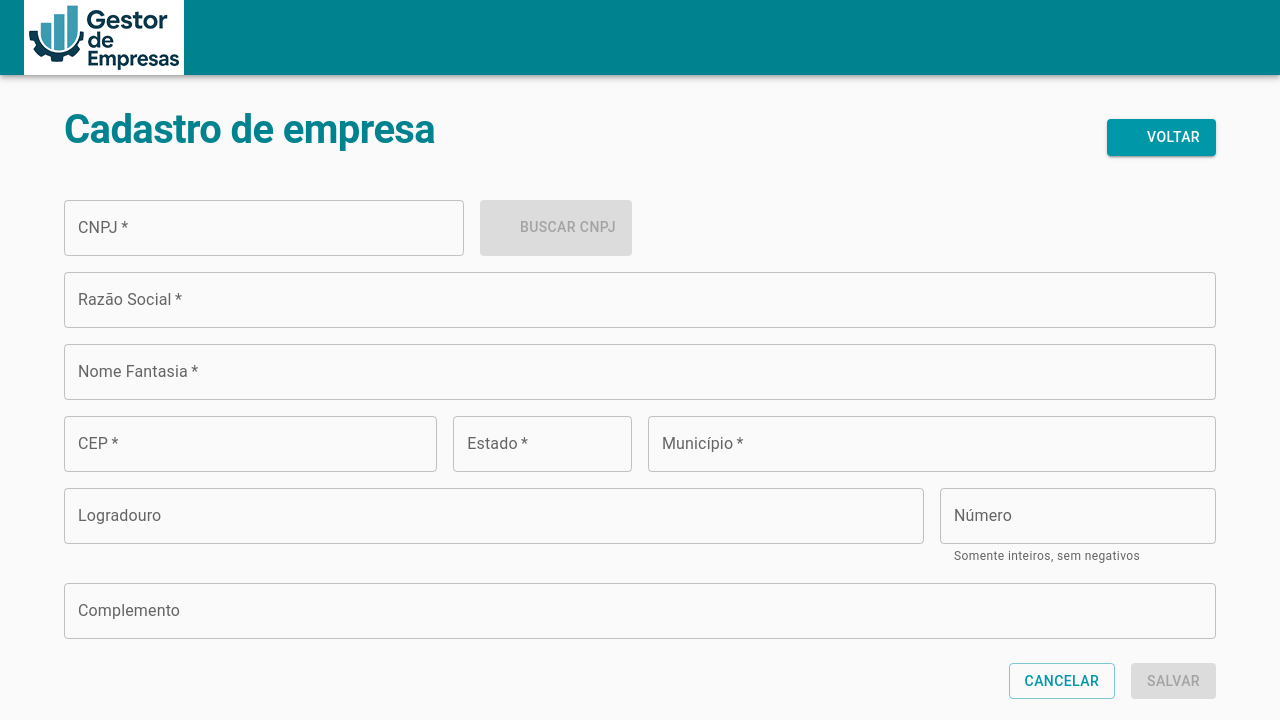
Test: Cadastro de Empresa com Busca de CNPJ › deve buscar dados do CNPJ pela API e preencher o formulário automaticamente
Step 1. Type "34028316000103" into the field labelled "CNPJ *" → (264,228), box [64,200,464,256]
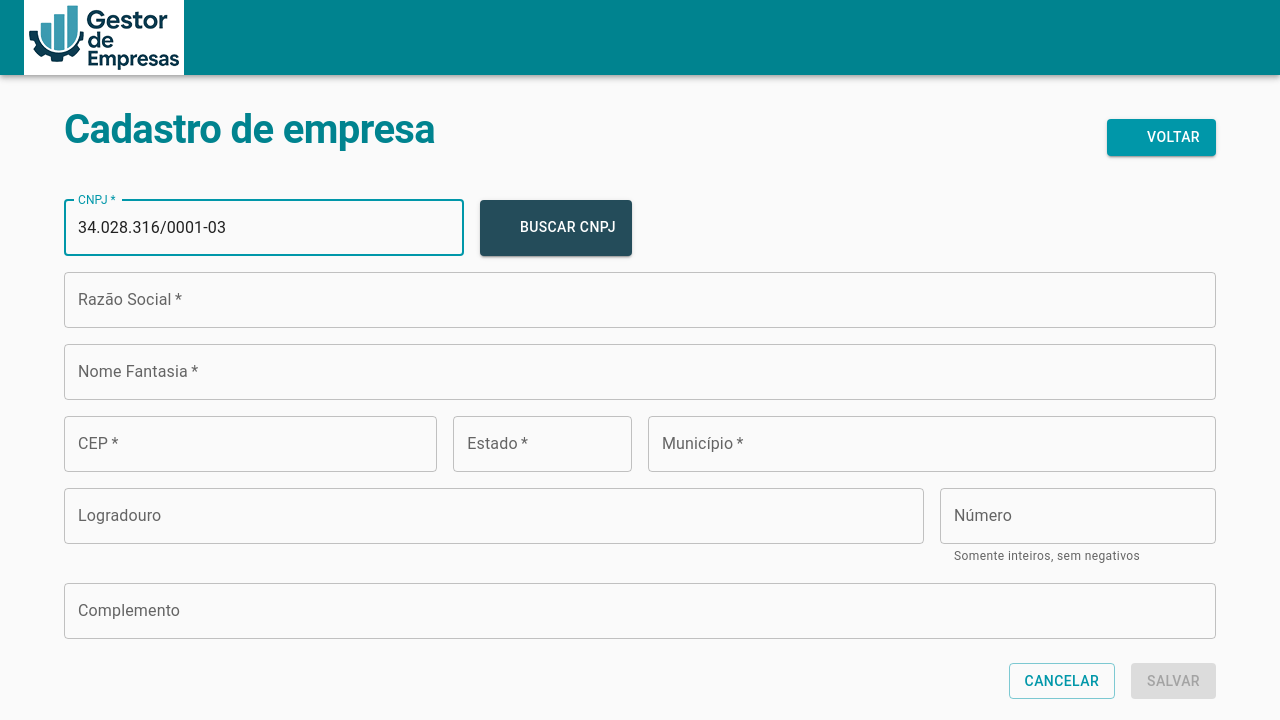
Check: the text "Buscar CNPJ" is enabled
Check: the field labelled "CNPJ *" holds "34.028.316/0001-03", box [64,200,464,256]
Step 2. Click the button "Buscar CNPJ" → (556,228), box [480,200,632,256]
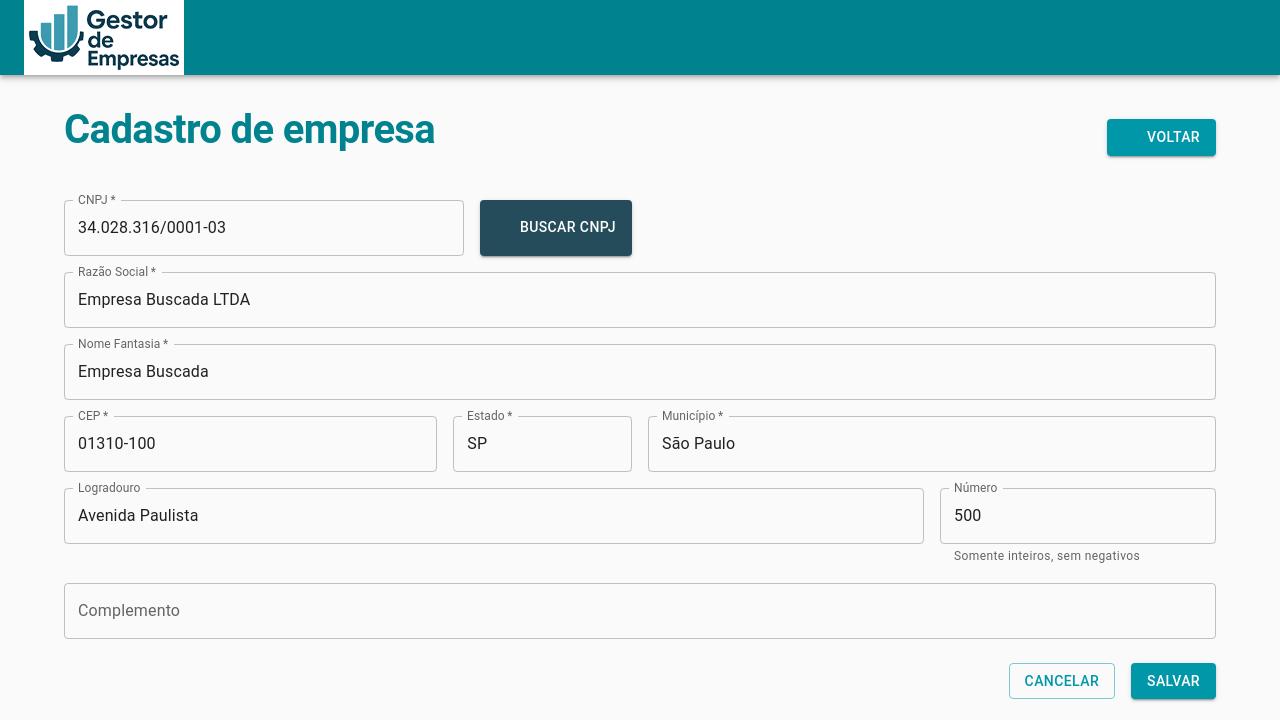
Check: the field labelled "Razão Social *" holds "Empresa Buscada LTDA", box [64,272,1216,328]
Check: the field labelled "Nome Fantasia *" holds "Empresa Buscada", box [64,344,1216,400]
Check: the field labelled "CEP *" holds "01310-100", box [64,416,437,472]
